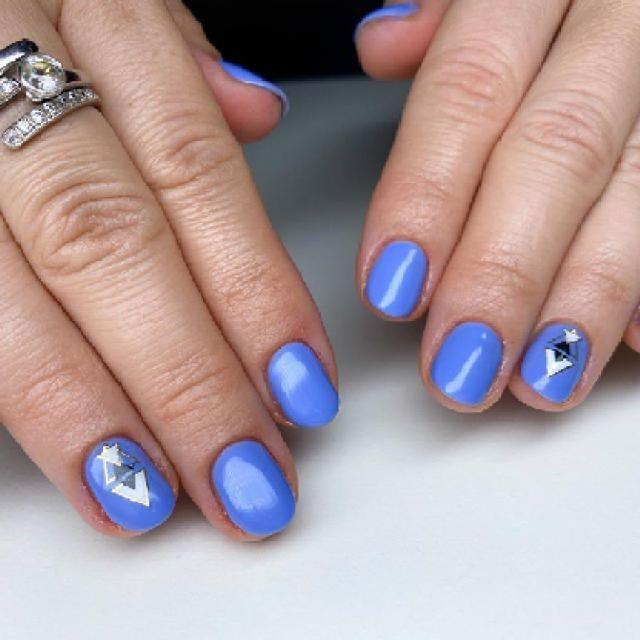Nail: (84, 438, 175, 531), (212, 440, 295, 536), (266, 342, 338, 428), (431, 321, 502, 405), (520, 324, 589, 402), (365, 241, 428, 318), (222, 63, 288, 112)
